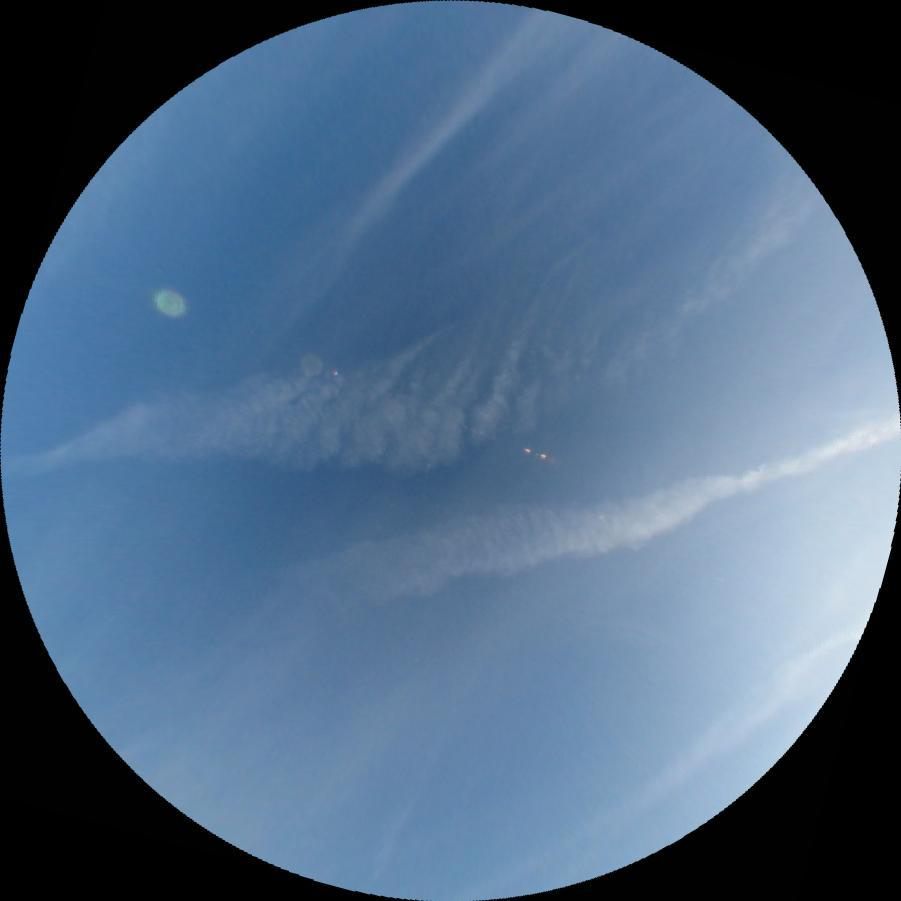contrail veryold: (0, 146, 857, 618), (263, 416, 901, 631), (572, 618, 858, 857)
